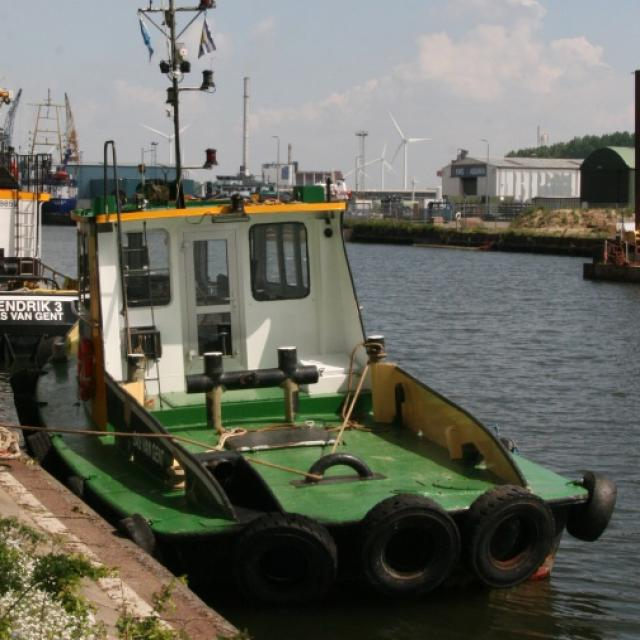tugboat: (4, 1, 626, 615)
